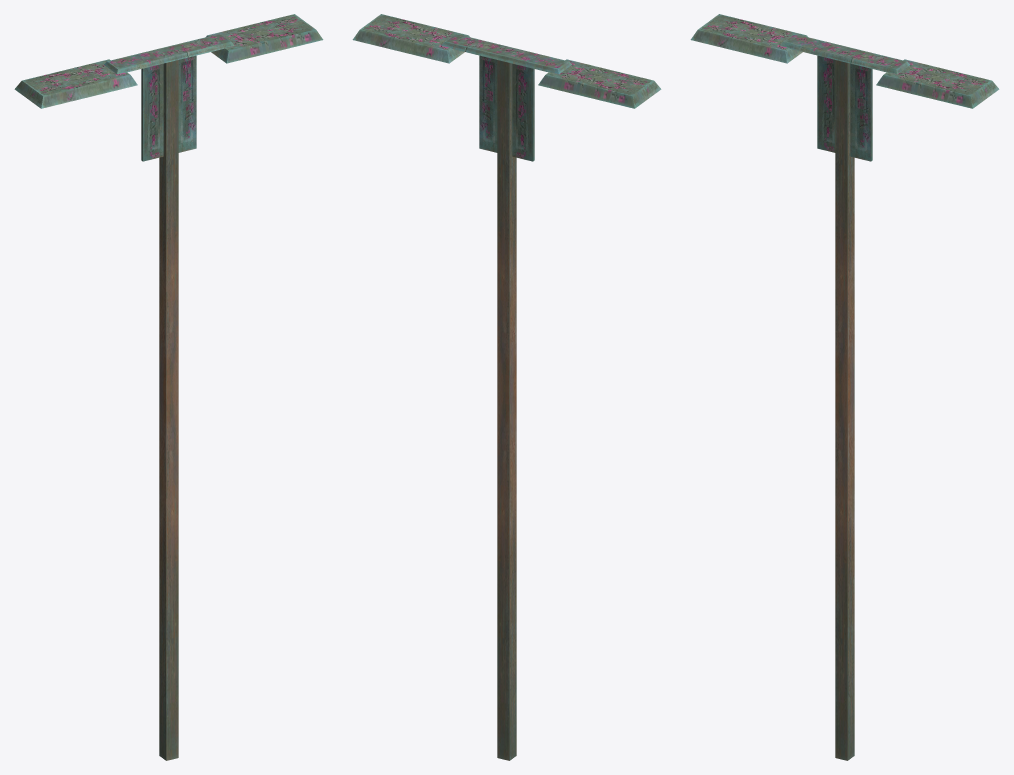
Rendered from mun_all_imprv_streetlamp_m_s01_l0.fbx.
3 renders of one model, left to right at view 1: azimuth 30°, elevation 25°; view 2: azimuth 150°, elevation 25°; view 3: azimuth 330°, elevation 25°, orthographic.
Parts seen in each view (by area): view 1: mesh_node; view 2: mesh_node; view 3: mesh_node.
Boxes of the visible parts, x1,y1,x2,y2 form: mesh_node: [14, 14, 323, 760]; mesh_node: [352, 14, 661, 760]; mesh_node: [690, 14, 999, 760].
Size of the model in its own units: 1.25 by 2.99 by 0.2055.
